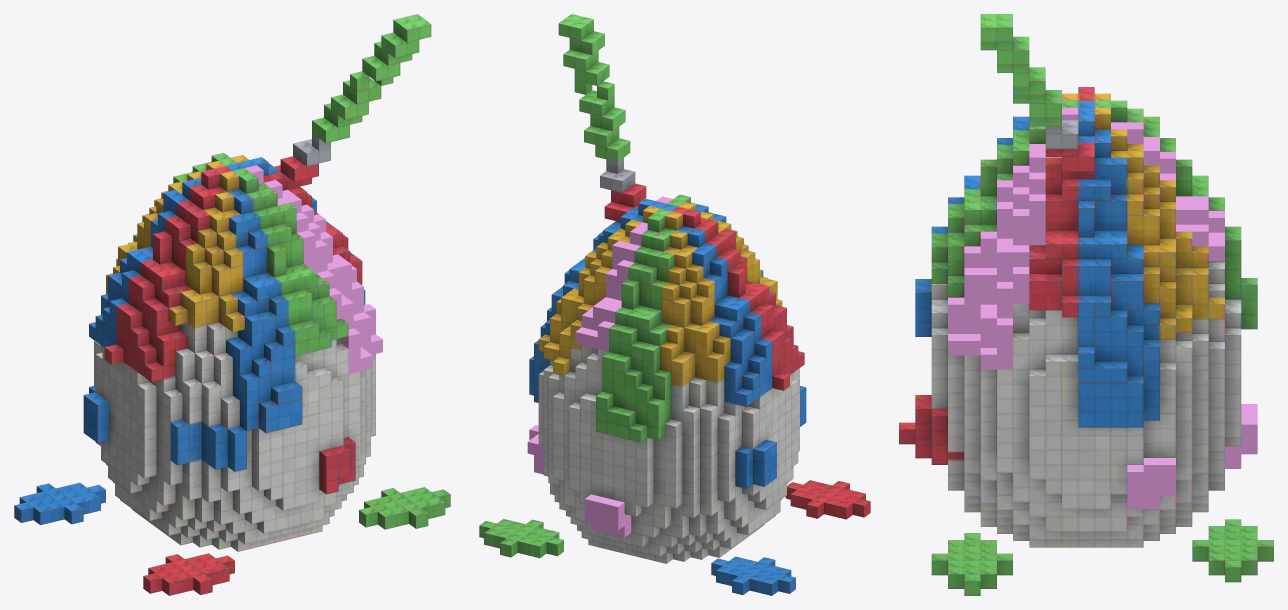
Rendered from paint-splat.glb.
3 views of the same model, side by side, from view 1: azimuth 30°, elevation 25°; view 2: azimuth 150°, elevation 25°; view 3: azimuth 270°, elevation 25° (orthographic). The views are drawn at different scales.
Parts seen in each view (by area): view 1: Body.019, Glow.017; view 2: Body.019, Glow.017; view 3: Body.019, Glow.017.
Boxes of the visible parts, bbox=[...] form: Body.019: bbox=[14, 14, 450, 595]; Glow.017: bbox=[245, 165, 382, 373]; Body.019: bbox=[479, 14, 870, 595]; Glow.017: bbox=[527, 196, 672, 537]; Body.019: bbox=[899, 14, 1273, 595]; Glow.017: bbox=[948, 107, 1257, 509].
Bounding box in the file's own units: 4.2 × 5.7 × 3.45.
2 materials, 1 textured.
